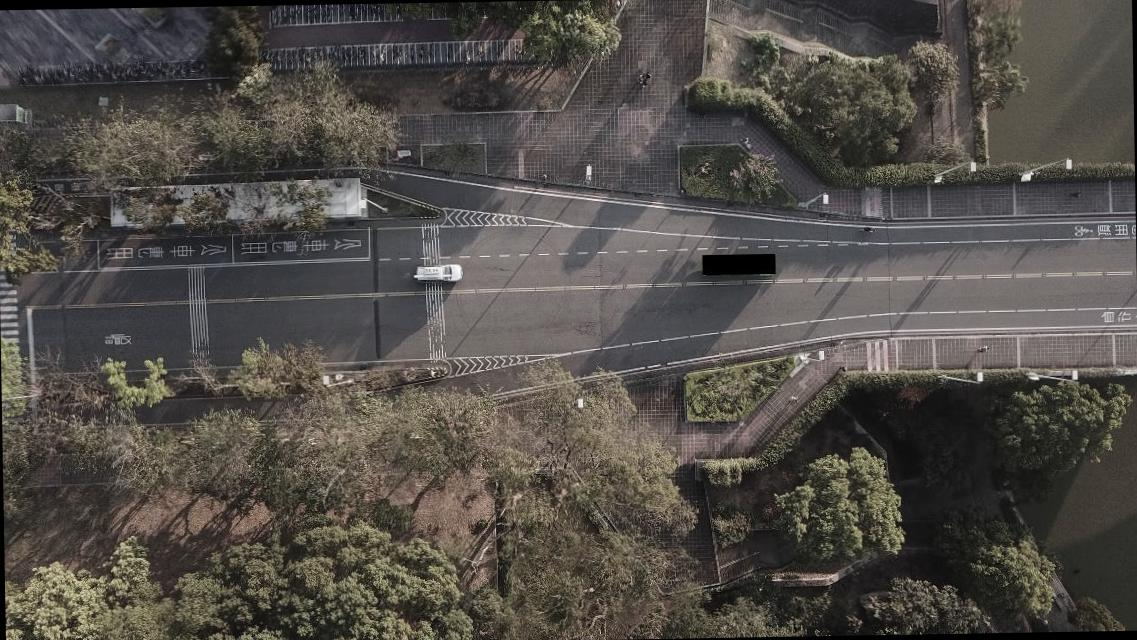vehicle: (412, 263, 462, 282)
